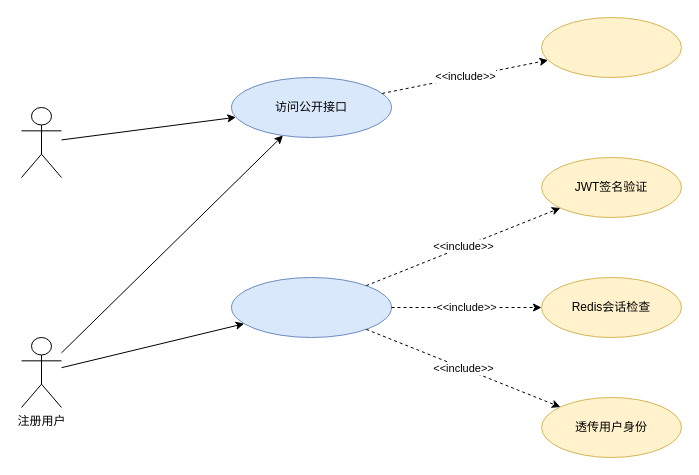
The diagram is 699 pixels wide and 475 high, and some of its shapes have lost their labels. Here are the shapes that lost their labels. From the top down, the centre of each, then its label:
point 611,47: 路由转发
point 41,142: 游客
point 311,307: 访问受保护接口
